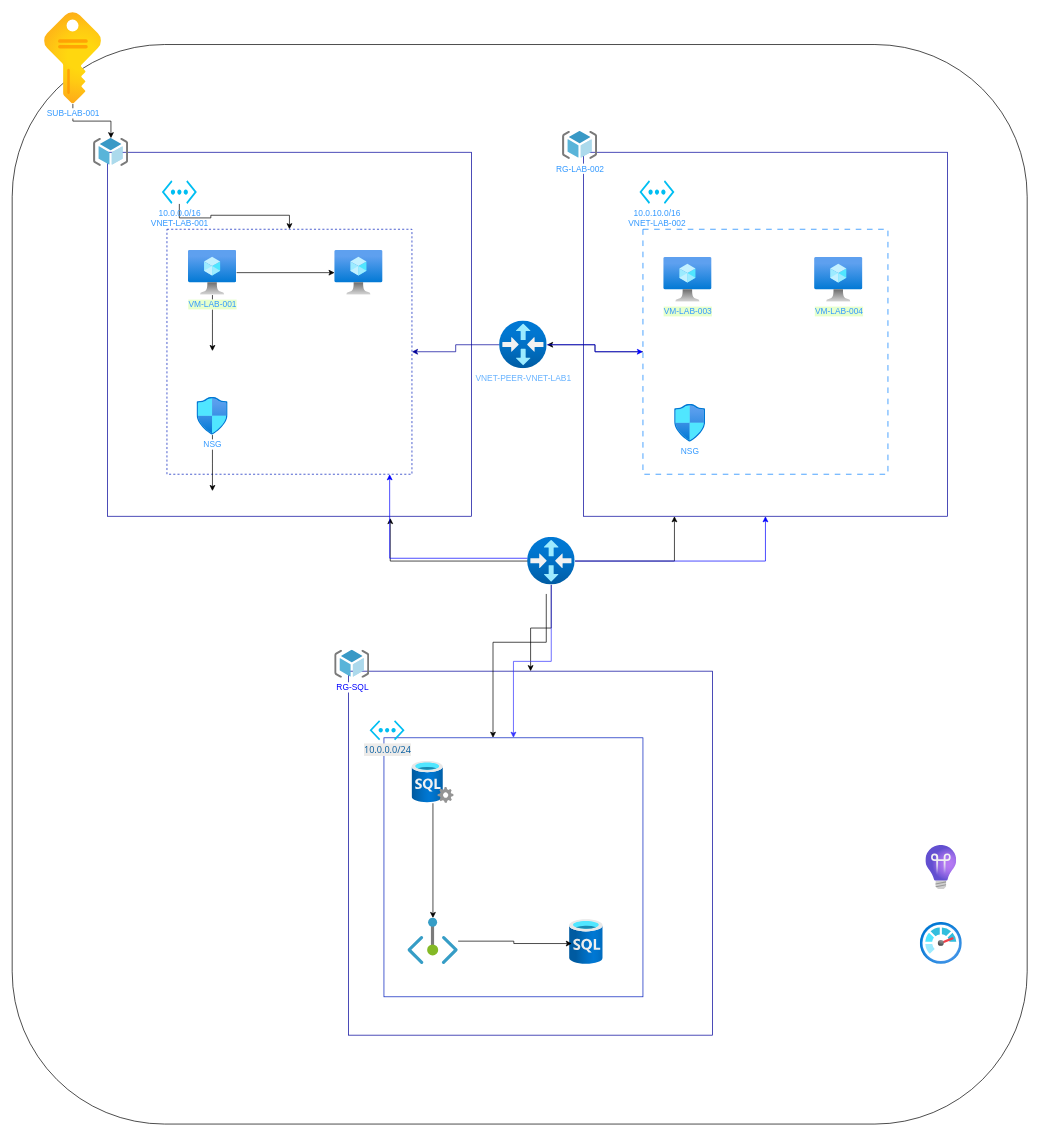
The diagram is 1040 pixels wide and 1136 high, and some of its shapes have lost their labels. The box of each missing label's shape, as (x1, y1, x2, y2) in pixels:
azure-app-insight: (925, 845, 956, 889)
azure-monitor: (920, 922, 962, 964)
PE-SQL-LAB-01: (407, 918, 458, 964)
RG-LAB-001: (93, 138, 128, 166)
SQL-LAB-001: (412, 761, 454, 803)
SQLDB-LAB-001: (569, 919, 603, 964)
VM-LAB-002: (334, 250, 383, 295)
